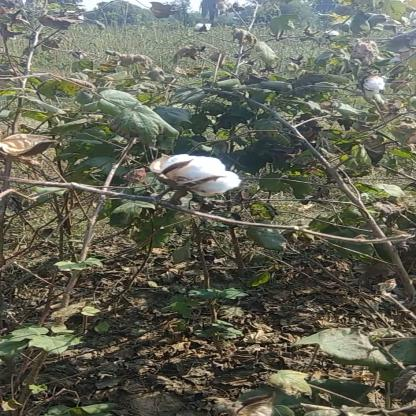cotton_ready: (125, 146, 252, 212)
